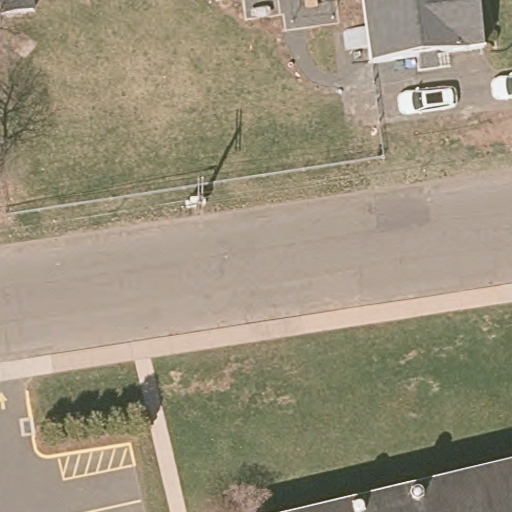DT: (182, 174, 213, 213)
